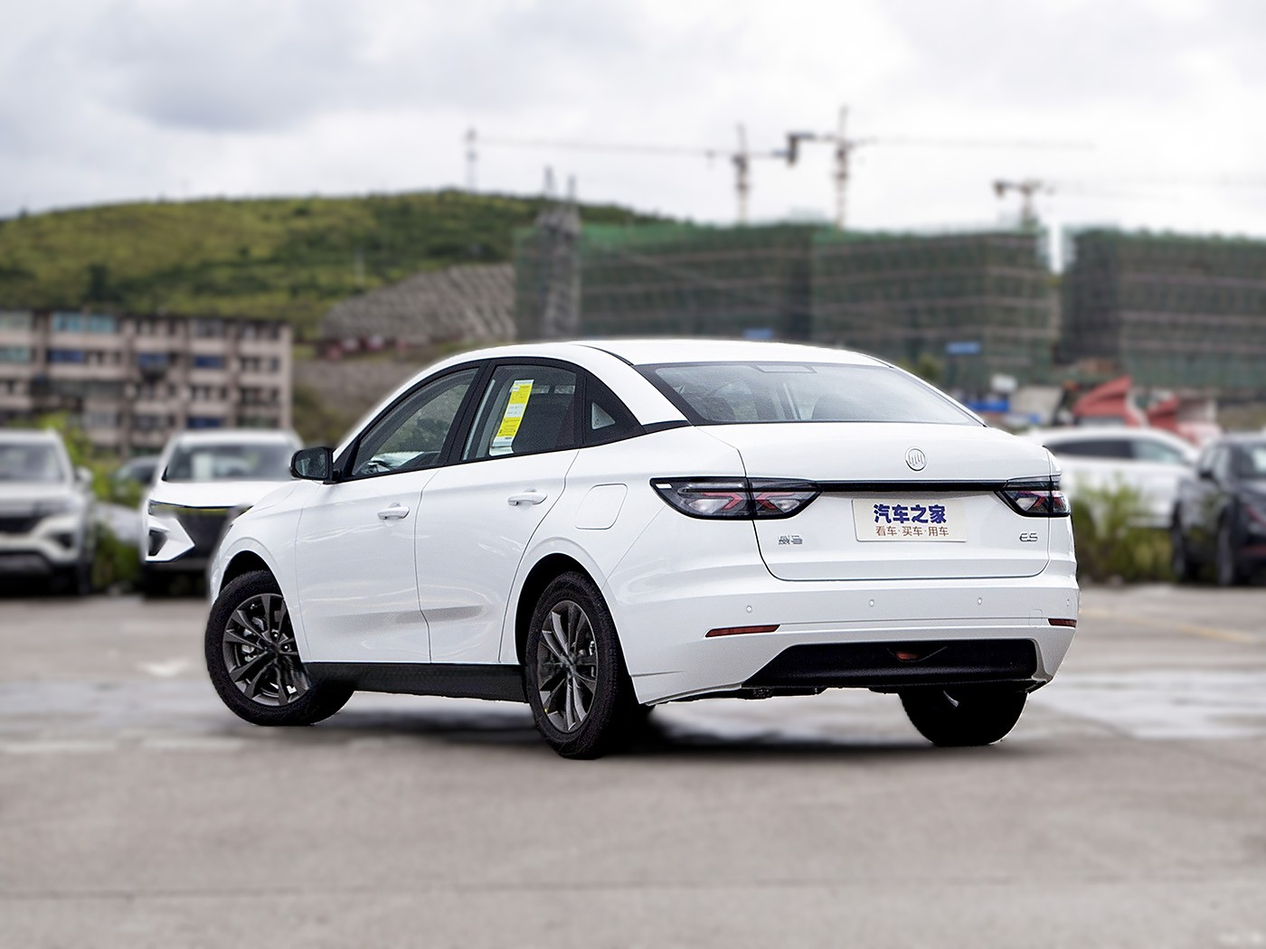WELTMEISTER: (906, 448, 926, 471)
